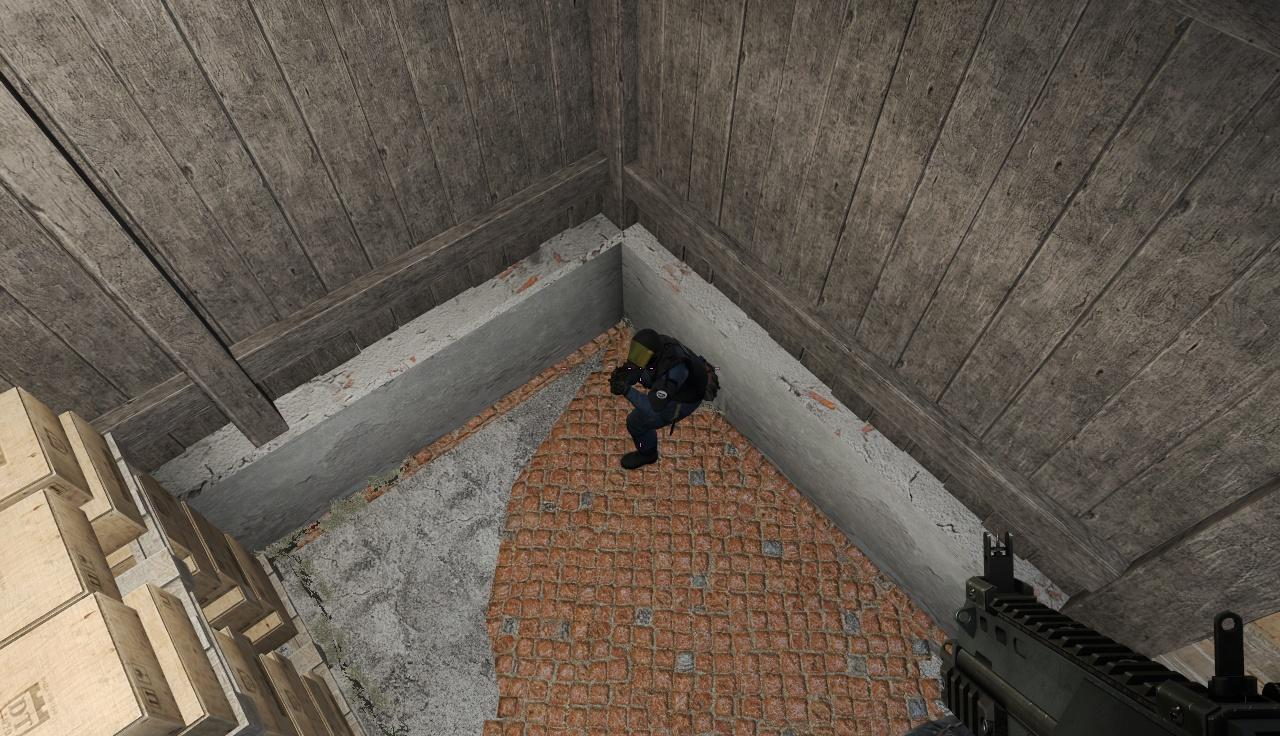ct: (623, 327, 707, 466)
cthead: (628, 327, 662, 364)
rifle: (944, 533, 1280, 736)
